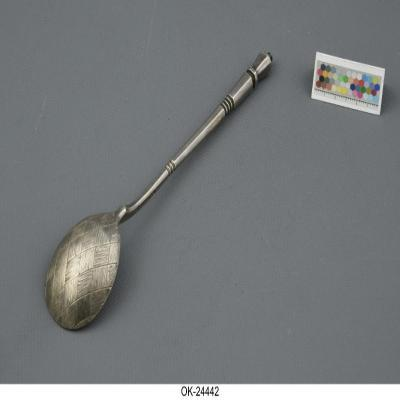dpi: (44, 53, 272, 333)
